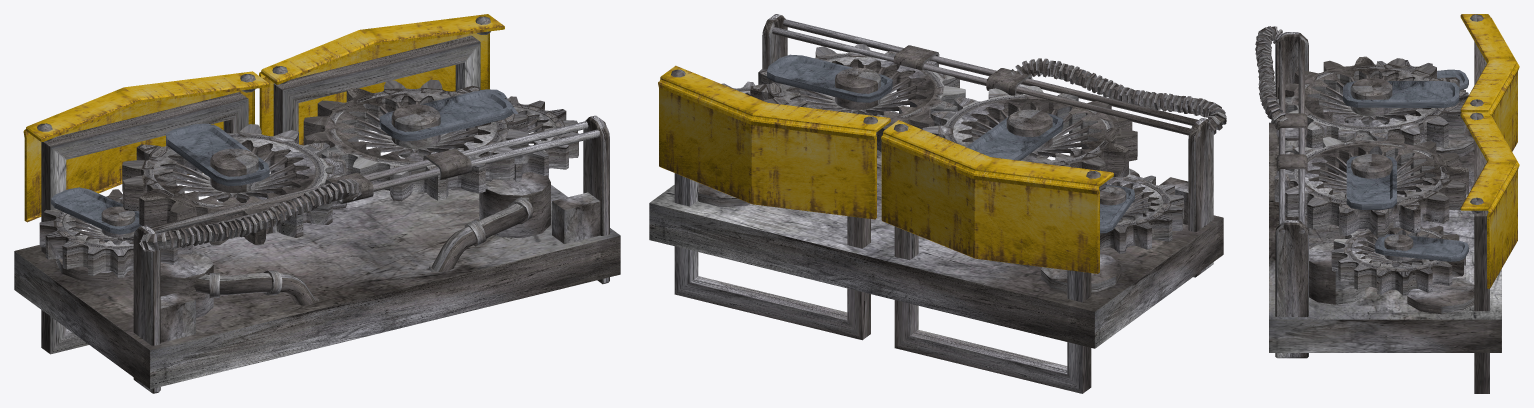
File: static.glb
3 views of the same model, side by side, from view 1: azimuth 30°, elevation 25°; view 2: azimuth 150°, elevation 25°; view 3: azimuth 270°, elevation 25° (orthographic). The views are drawn at different scales.
Visible parts, largest first — view 1: Cube, Cube_65, Sweep_5, Extrude_remesh, Extrude_remesh_2, Extrude_remesh_3, Cube_43, Cylinder_1_3_2, Sweep_4, Cube_1, Extrude_6, Extrude (+16 smaller); view 2: Cube_65, Cube, Sweep_5, Extrude_remesh_2, Cube_43, Extrude_6, Extrude_remesh, Extrude_remesh_3, Extrude, Cylinder_1, Cylinder, Extrude_3 (+9 smaller); view 3: Cube, Cube_65, Extrude_remesh, Extrude_remesh_2, Cube_43, Extrude_remesh_3, Extrude_3, Sweep_5, Extrude_6, Cylinder_4, Extrude_5, Cylinder_1_3_2 (+11 smaller).
Boxes of the visible parts, bbox=[...] form: Cube: bbox=[14, 156, 620, 389]; Cube_65: bbox=[23, 14, 504, 222]; Sweep_5: bbox=[41, 35, 480, 354]; Extrude_remesh: bbox=[303, 79, 528, 201]; Extrude_remesh_2: bbox=[122, 124, 346, 245]; Extrude_remesh_3: bbox=[39, 96, 578, 277]; Cube_43: bbox=[133, 115, 609, 393]; Cylinder_1_3_2: bbox=[160, 172, 550, 317]; Sweep_4: bbox=[194, 197, 532, 305]; Cube_1: bbox=[160, 192, 600, 342]; Extrude_6: bbox=[153, 137, 315, 205]; Extrude: bbox=[379, 90, 512, 141]; Cube_65: bbox=[658, 65, 1113, 273]; Cube: bbox=[649, 150, 1223, 348]; Sweep_5: bbox=[674, 173, 1091, 393]; Extrude_remesh_2: bbox=[922, 86, 1137, 190]; Cube_43: bbox=[762, 14, 1213, 277]; Extrude_6: bbox=[953, 99, 1106, 163]; Extrude_remesh: bbox=[750, 44, 965, 152]; Extrude_remesh_3: bbox=[722, 81, 1183, 253]; Extrude: bbox=[767, 54, 892, 102]; Cylinder_1: bbox=[783, 19, 1210, 129]; Cylinder: bbox=[763, 26, 1201, 137]; Extrude_3: bbox=[781, 57, 934, 118]; Cube: bbox=[1269, 122, 1501, 352]; Cube_65: bbox=[1460, 14, 1519, 288]; Extrude_remesh: bbox=[1274, 132, 1468, 237]; Extrude_remesh_2: bbox=[1275, 56, 1468, 149]; Cube_43: bbox=[1275, 32, 1308, 358]; Extrude_remesh_3: bbox=[1331, 60, 1465, 295]; Extrude_3: bbox=[1305, 144, 1440, 200]; Sweep_5: bbox=[1474, 41, 1489, 393]; Extrude_6: bbox=[1305, 68, 1436, 127]; Cylinder_4: bbox=[1407, 125, 1474, 314]; Extrude_5: bbox=[1343, 81, 1459, 107]; Cylinder_1_3_2: bbox=[1306, 106, 1365, 304].
Size of the model in its own units: 4.41 by 1.87 by 2.27.
3 materials, 3 textured.
